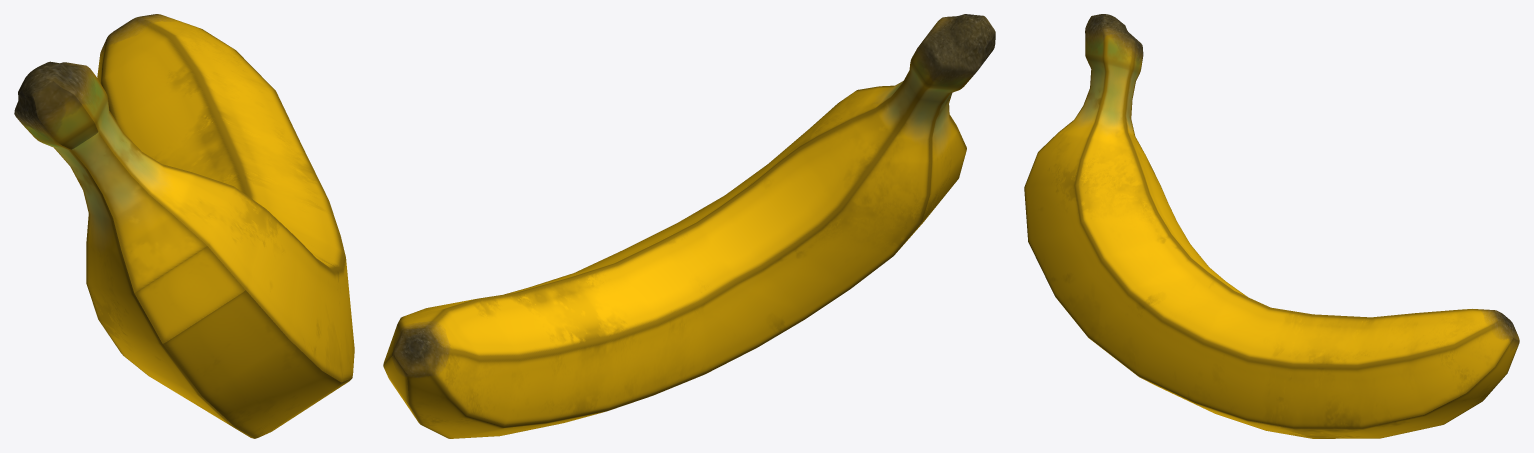
File: Banana.fbx
3 views of the same model, side by side, from view 1: azimuth 30°, elevation 25°; view 2: azimuth 150°, elevation 25°; view 3: azimuth 270°, elevation 25° (orthographic). The views are drawn at different scales.
Parts seen in each view (by area): view 1: Banana_Low001; view 2: Banana_Low001; view 3: Banana_Low001.
Part boxes in pixels (left/top/right/bottom): Banana_Low001: left=14, top=14, right=354, bottom=438; Banana_Low001: left=383, top=14, right=995, bottom=438; Banana_Low001: left=1024, top=14, right=1519, bottom=438.
Bounding box in the file's own units: 6.68 × 6.27 × 9.03.
Materials: 1 (1 with a texture image).
